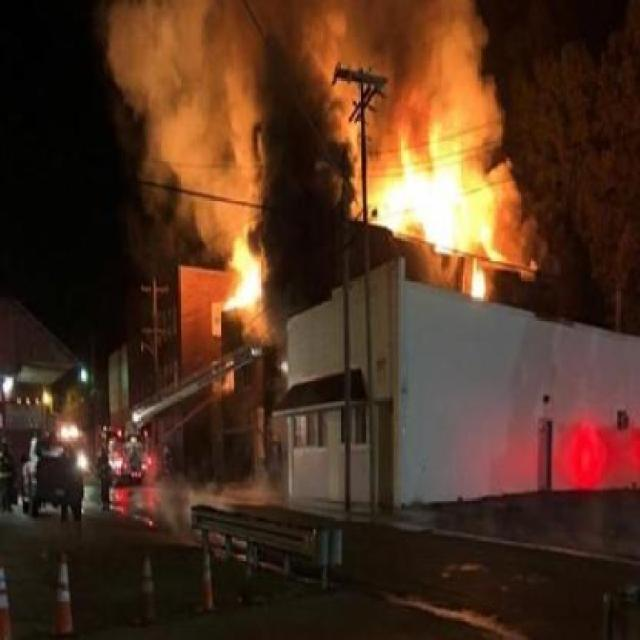Fire: (212, 159, 536, 368)
Smoke: (101, 0, 536, 263)
